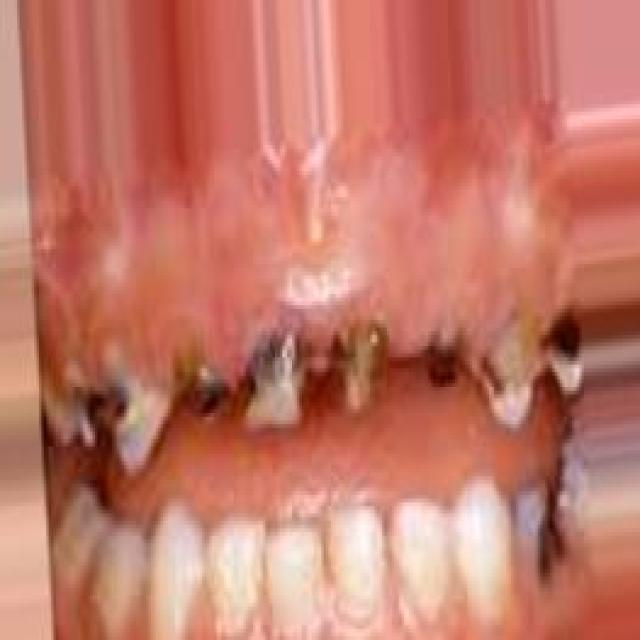caries: (236, 325, 316, 445), (512, 480, 572, 605), (338, 325, 396, 433), (468, 334, 534, 427), (173, 336, 231, 434), (42, 368, 102, 461), (110, 380, 165, 481), (534, 299, 588, 401), (419, 322, 465, 394)
